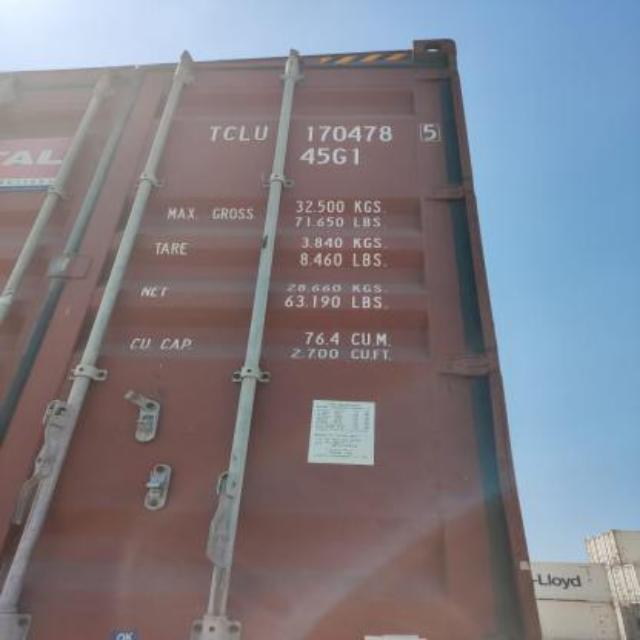0: (334, 118, 346, 146)
1: (300, 120, 316, 144)
4: (348, 122, 362, 146)
5: (423, 121, 441, 145)
7: (317, 120, 333, 144), (360, 122, 376, 146)
8: (377, 118, 393, 146)
C: (222, 119, 238, 149)
L: (236, 119, 252, 148)
T: (208, 114, 222, 146)
U: (252, 118, 272, 146)
